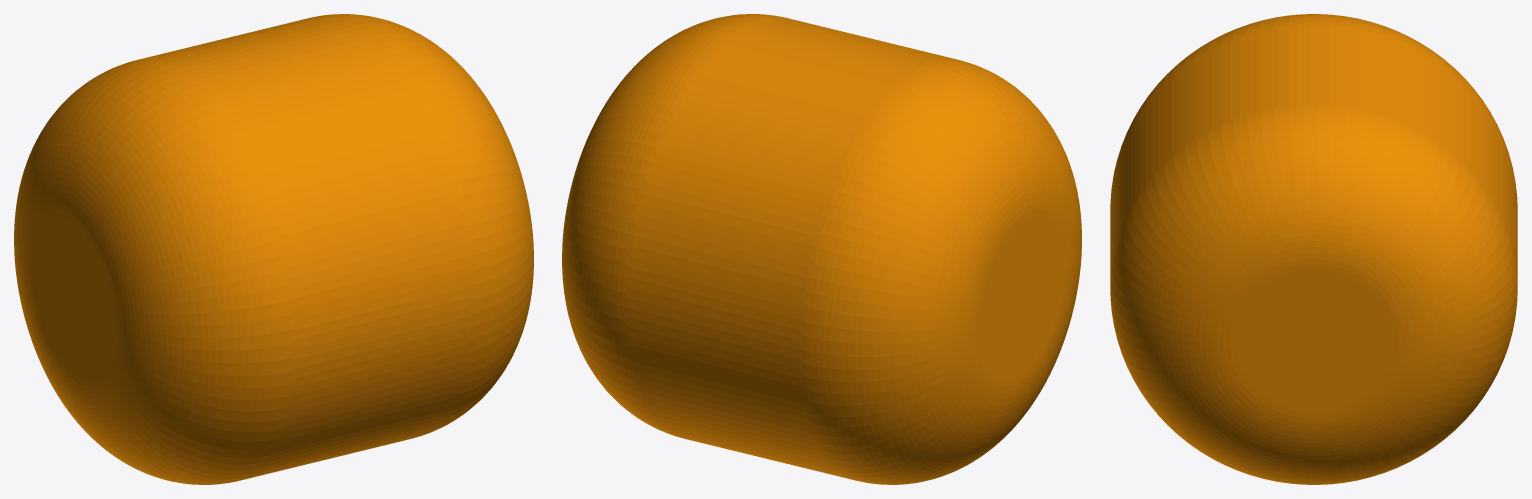
File: swarmfarmv2_spray_liquid.dae
3 views of the same model, side by side, from view 1: azimuth 30°, elevation 25°; view 2: azimuth 150°, elevation 25°; view 3: azimuth 270°, elevation 25° (orthographic). The views are drawn at different scales.
Visible parts, largest first — view 1: node0.003; view 2: node0.003; view 3: node0.003.
Part boxes in pixels (<box>): node0.003: <box>14,14,533,484</box>; node0.003: <box>562,14,1081,484</box>; node0.003: <box>1110,14,1517,484</box>.
Size of the model in its own units: 0.7 by 0.6558 by 0.6556.
